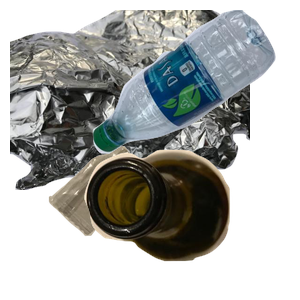glass: (82, 147, 300, 300)
metal: (10, 10, 250, 190)
plastic: (90, 10, 300, 156)
trash: (46, 144, 188, 300)
